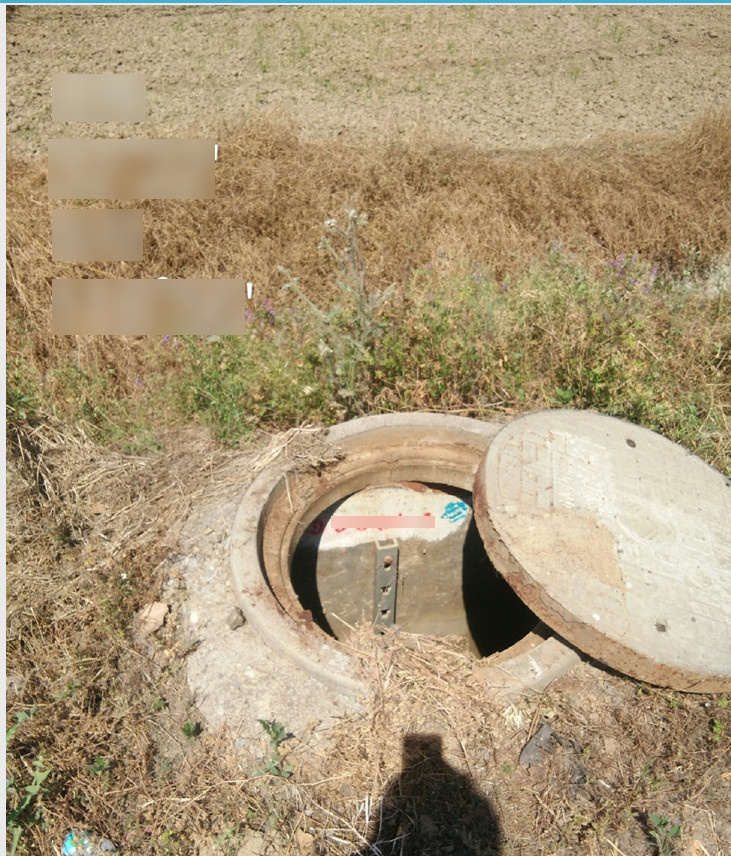well: (225, 408, 725, 701)
